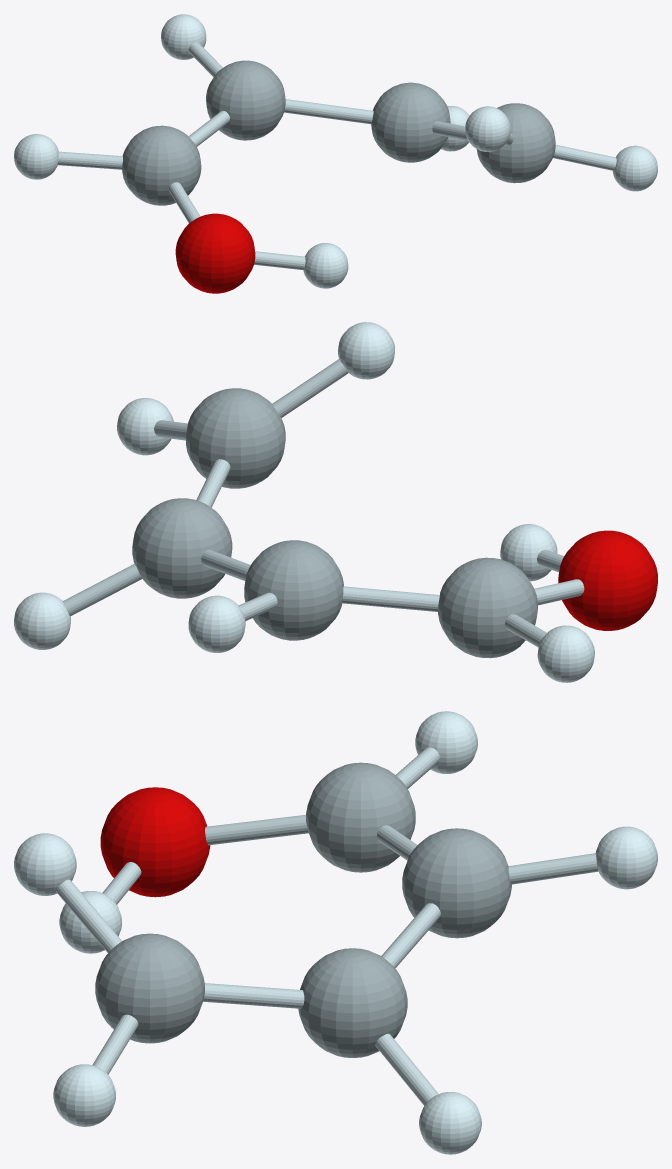
Rendered from irc_084.glb.
The picture shows the model from 3 angles, top to bottom: view 1: azimuth 30°, elevation 25°; view 2: azimuth 150°, elevation 25°; view 3: azimuth 270°, elevation 25°; orthographic projection. The views are drawn at different scales.
Visible parts, largest first — view 1: Renderer Node; view 2: Renderer Node; view 3: Renderer Node.
Boxes of the visible parts, x1,y1,x2,y2 form: Renderer Node: (14,14,657,293); Renderer Node: (14,322,657,682); Renderer Node: (14,711,657,1154).
Size of the model in its own units: 5.1 by 1.69 by 4.09.
